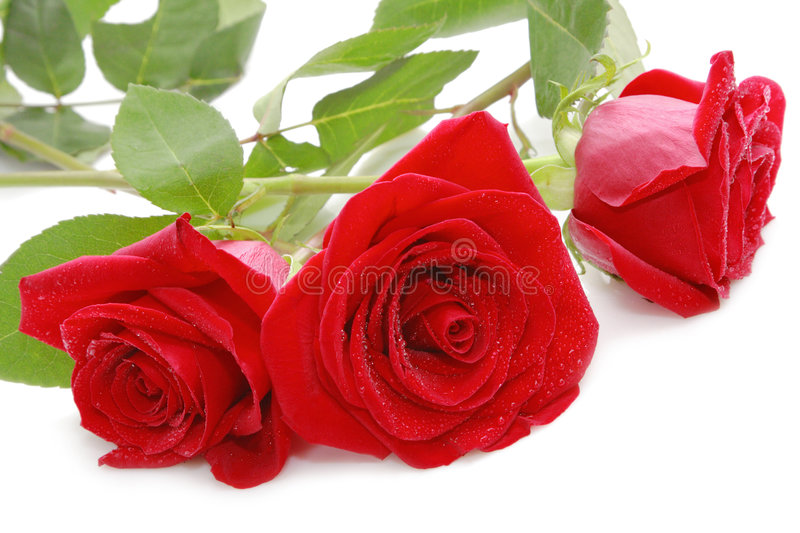RedRose: (269, 123, 572, 457), (43, 246, 287, 473), (579, 69, 771, 299)
